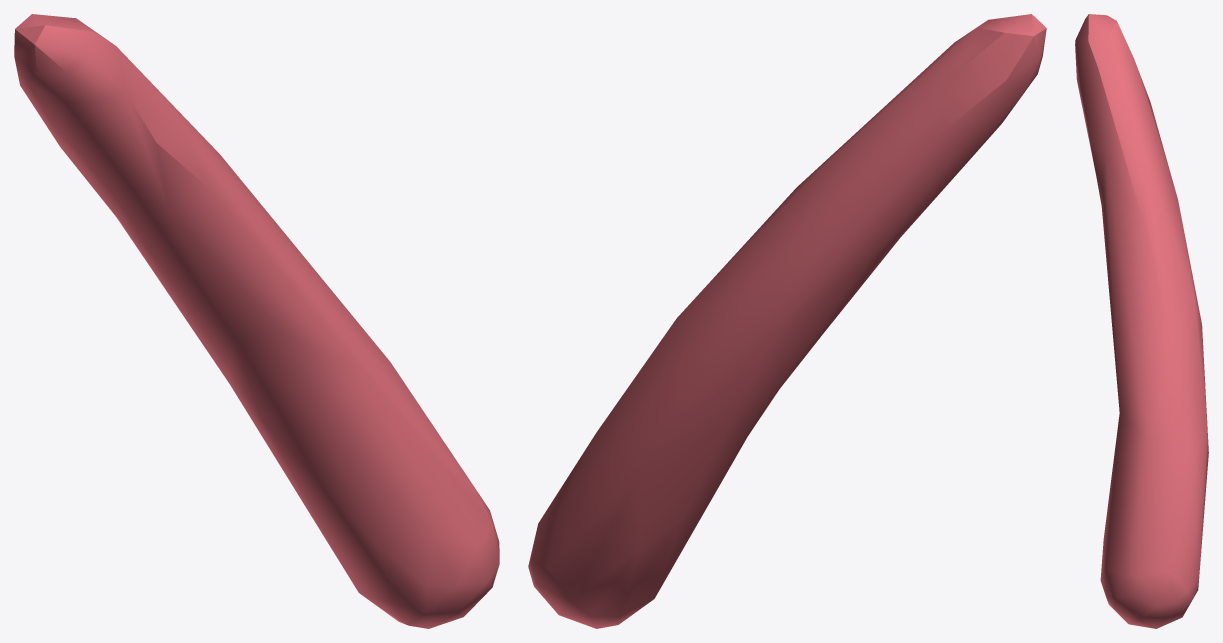
File: fma9437_fj2964.glb
3 views of the same model, side by side, from view 1: azimuth 30°, elevation 25°; view 2: azimuth 150°, elevation 25°; view 3: azimuth 270°, elevation 25° (orthographic). The views are drawn at different scales.
Parts seen in each view (by area): view 1: FMA9437_FJ2964; view 2: FMA9437_FJ2964; view 3: FMA9437_FJ2964.
Boxes of the visible parts, x1,y1,x2,y2 form: FMA9437_FJ2964: [14, 14, 499, 628]; FMA9437_FJ2964: [528, 14, 1046, 628]; FMA9437_FJ2964: [1075, 14, 1208, 628].
Bounding box in the file's own units: 0.00639 × 0.00879 × 0.00224.
